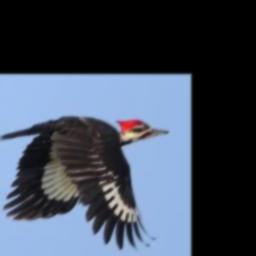Woodpecker: (0, 115, 168, 249)
